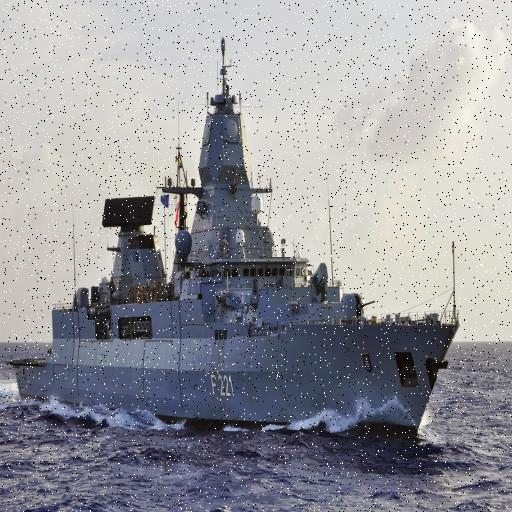Fragata: (1, 26, 282, 447)
